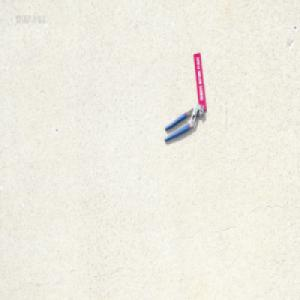Label: (194, 50, 207, 110)
Pliers: (163, 103, 204, 142)
